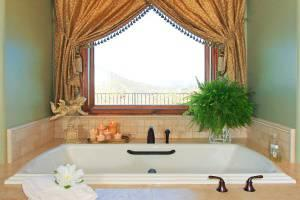window: (90, 5, 214, 109)
